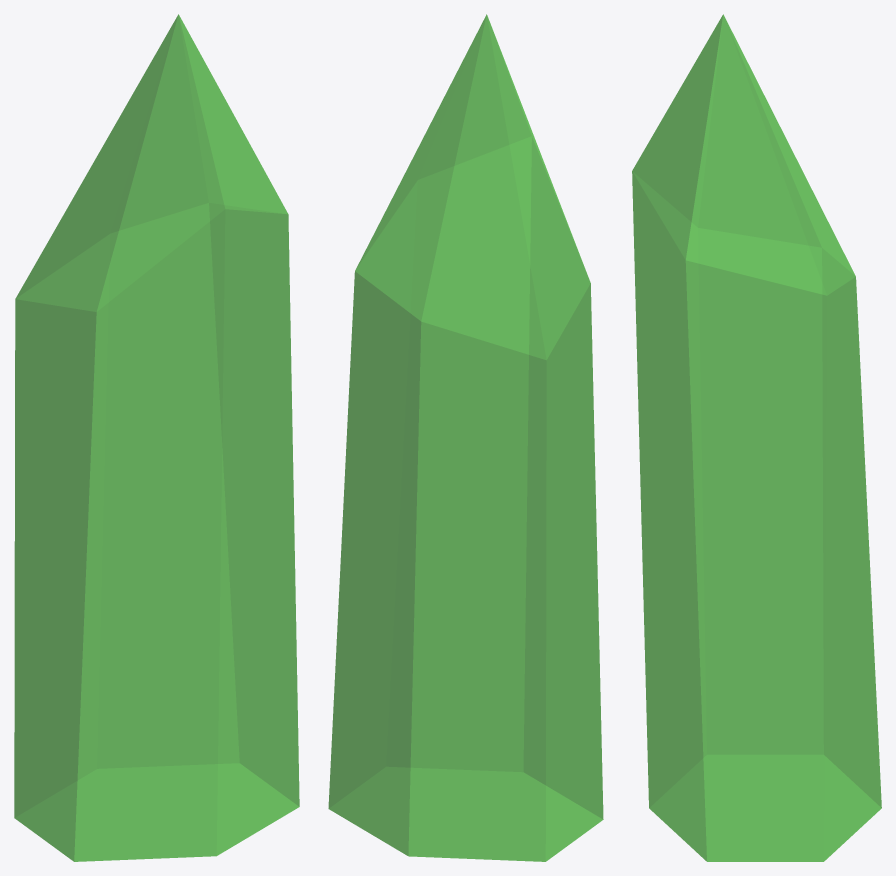
The model's file is Crsytal_3.fbx.
3 renders of one model, left to right at view 1: azimuth 30°, elevation 25°; view 2: azimuth 150°, elevation 25°; view 3: azimuth 270°, elevation 25°, orthographic. The views are drawn at different scales.
Parts seen in each view (by area): view 1: Cube; view 2: Cube; view 3: Cube.
Part boxes in pixels (x1,y1,x2,y2): Cube: (14, 14, 299, 861); Cube: (328, 14, 603, 861); Cube: (632, 14, 881, 861).
Size of the model in its own units: 31.29 by 108 by 30.78.
